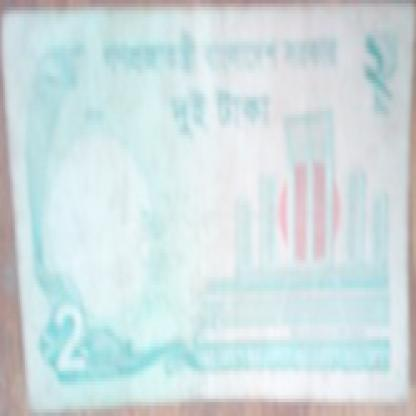two taka: (45, 302, 90, 388), (361, 35, 388, 94)
